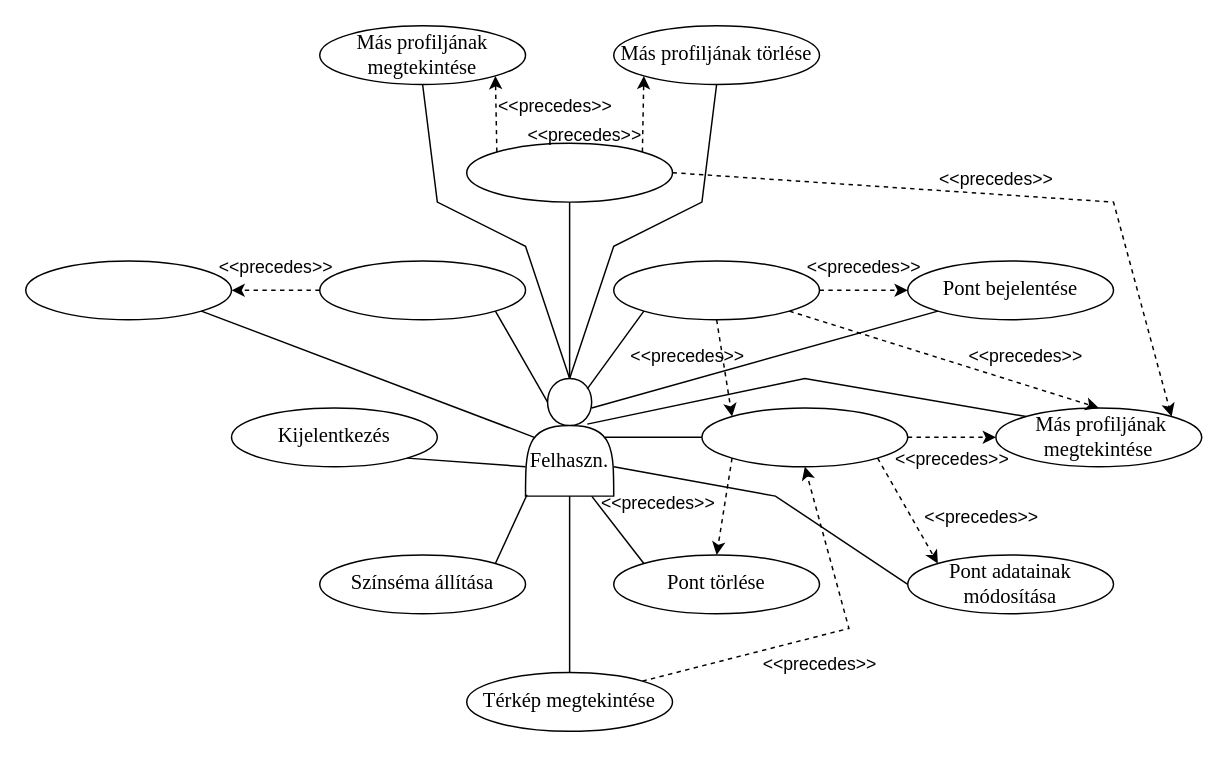
Some shapes in this 1227 by 757 pixel diagram are drawn without their labels. The centre of each missing label's shape, as x and y in pixels:
"Pont adatainak részletezése" belongs at (804,436).
"Pontok listázása" belongs at (716,289).
"Saját profil megtekintése" belongs at (422,289).
"Saját profil szerksztése" belongs at (128,289).
"Összes profil listázása" belongs at (569,172).
